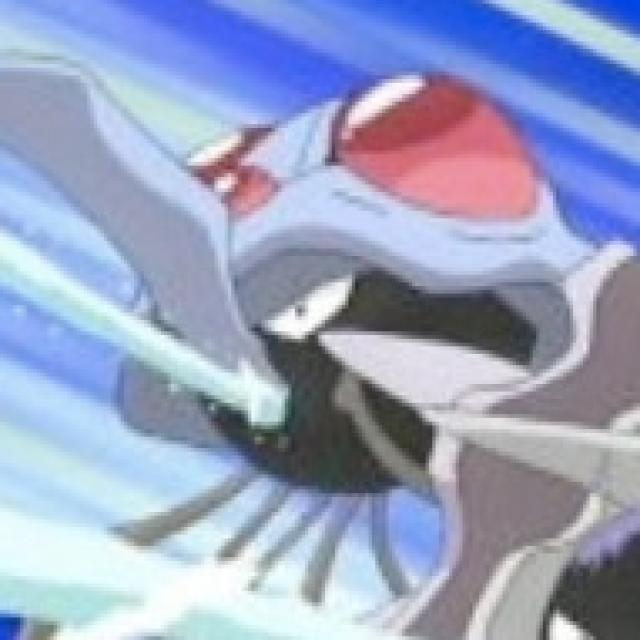Tentacruel: (104, 74, 528, 560)
